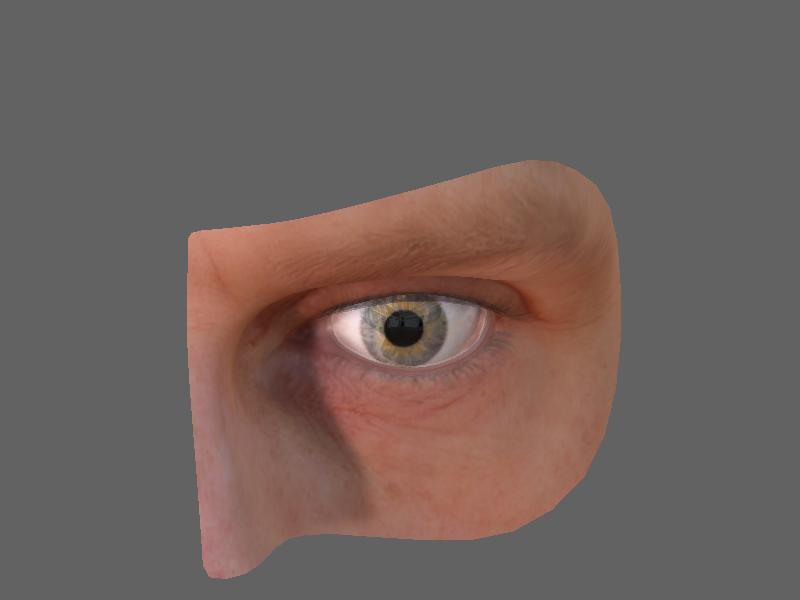iris: (360, 299, 454, 366)
